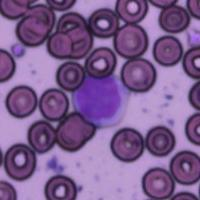L: (71, 73, 130, 127)
